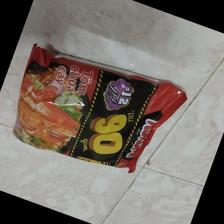Kokomi: (11, 45, 187, 176)
